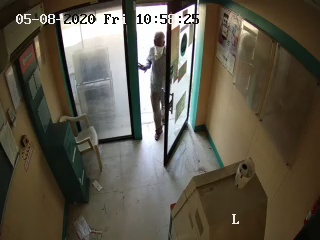open: (120, 1, 202, 180)
